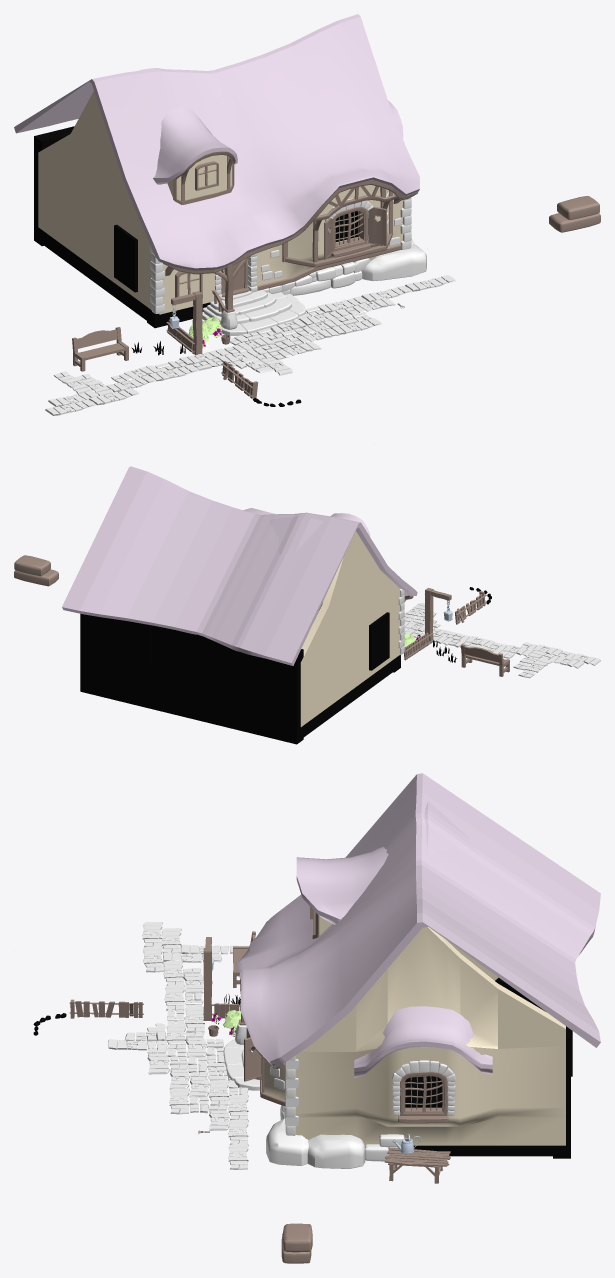
The model's file is house_03.fbx.
3 renders of one model, top to bottom at view 1: azimuth 30°, elevation 25°; view 2: azimuth 150°, elevation 25°; view 3: azimuth 270°, elevation 25°, orthographic. The views are drawn at different scales.
Parts seen in each view (by area): view 1: Roof, walls, stonepath, wood2, stones, Inside, pCube105, bench_1, plants_and_rocks, Box001, fence_1; view 2: Roof, Inside, walls, stonepath, pCube105, bench_1, Box001, fence_1; view 3: Roof, walls, stonepath, stones, Inside, wood2, table, pCube105, fence_1, Box001, plants_and_rocks.
Part boxes in pixels (<box>): Roof: <box>14,14,419,270</box>; walls: <box>38,91,402,314</box>; stonepath: <box>45,275,455,415</box>; wood2: <box>163,151,417,314</box>; stones: <box>150,192,426,335</box>; Inside: <box>34,126,359,328</box>; pCube105: <box>549,196,600,232</box>; bench_1: <box>72,327,128,371</box>; plants_and_rocks: <box>131,317,301,406</box>; Box001: <box>171,291,202,355</box>; fence_1: <box>221,361,258,398</box>; Roof: <box>62,466,417,665</box>; Inside: <box>80,612,400,744</box>; walls: <box>300,531,399,726</box>; stonepath: <box>404,602,600,678</box>; pCube105: <box>14,555,58,586</box>; bench_1: <box>461,644,509,676</box>; Box001: <box>425,588,451,643</box>; fence_1: <box>455,591,486,624</box>; Roof: <box>236,773,600,1077</box>; walls: <box>264,911,565,1145</box>; stonepath: <box>108,922,248,1169</box>; stones: <box>14,950,455,1168</box>; Inside: <box>405,977,572,1158</box>; wood2: <box>239,906,448,1123</box>; table: <box>384,1147,450,1183</box>; pCube105: <box>281,1223,312,1263</box>; fence_1: <box>69,999,143,1018</box>; Box001: <box>203,937,212,1020</box>; plants_and_rocks: <box>33,994,241,1036</box>.
Size of the model in its own units: 2410 by 796 by 1754.
